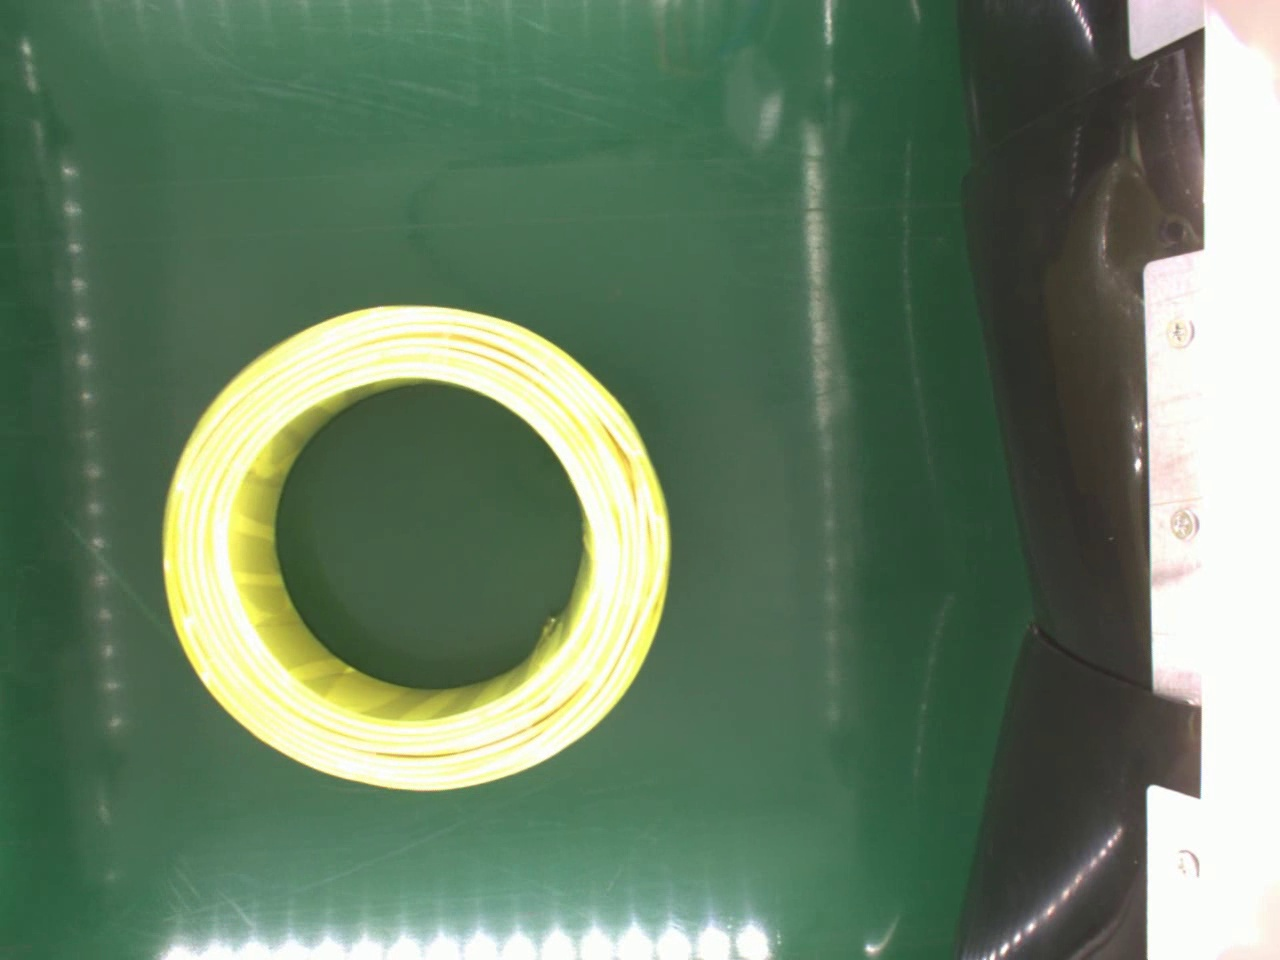yellow: (162, 307, 676, 804)
